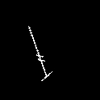treble_crochet: (29, 27, 49, 80)
